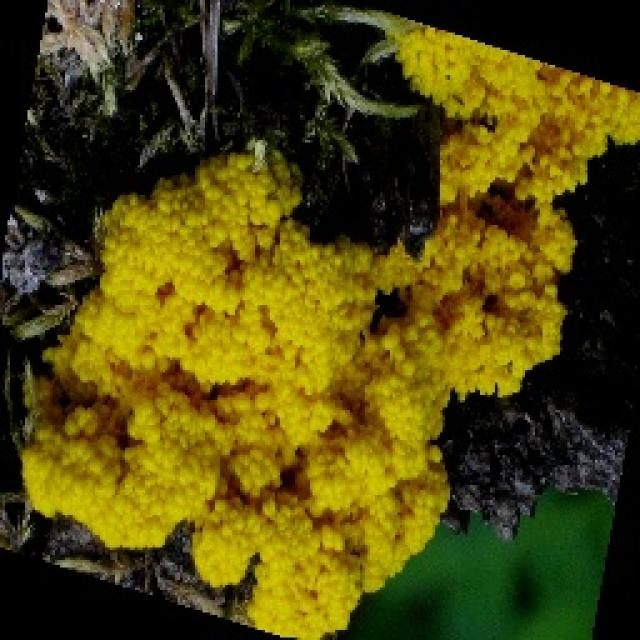Dog_vomit_slime_mold: (1, 12, 640, 640)
